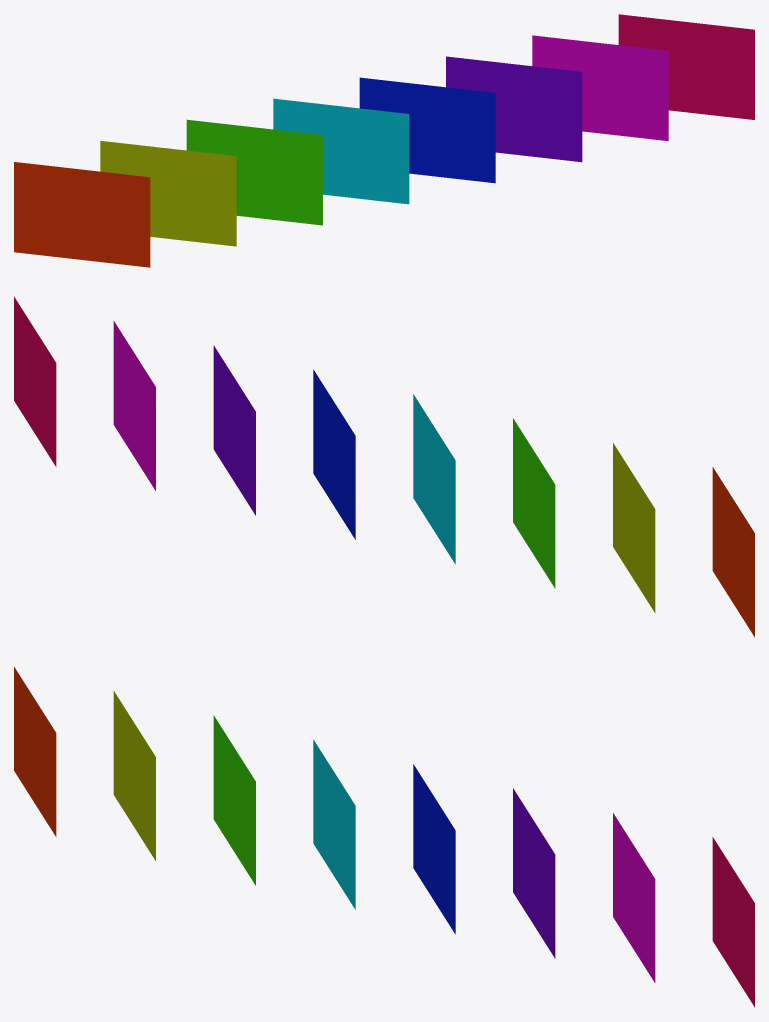
The picture shows the model from 3 angles, top to bottom: view 1: azimuth 30°, elevation 25°; view 2: azimuth 150°, elevation 25°; view 3: azimuth 330°, elevation 25°; orthographic projection. The views are drawn at different scales.
Visible parts, largest first — view 1: Plane; view 2: Plane; view 3: Plane.
Part boxes in pixels (x1,y1,x2,y2): Plane: (14,14,754,267); Plane: (14,296,754,637); Plane: (14,666,754,1007).
Size of the model in its own units: 8 by 1 by 1.
